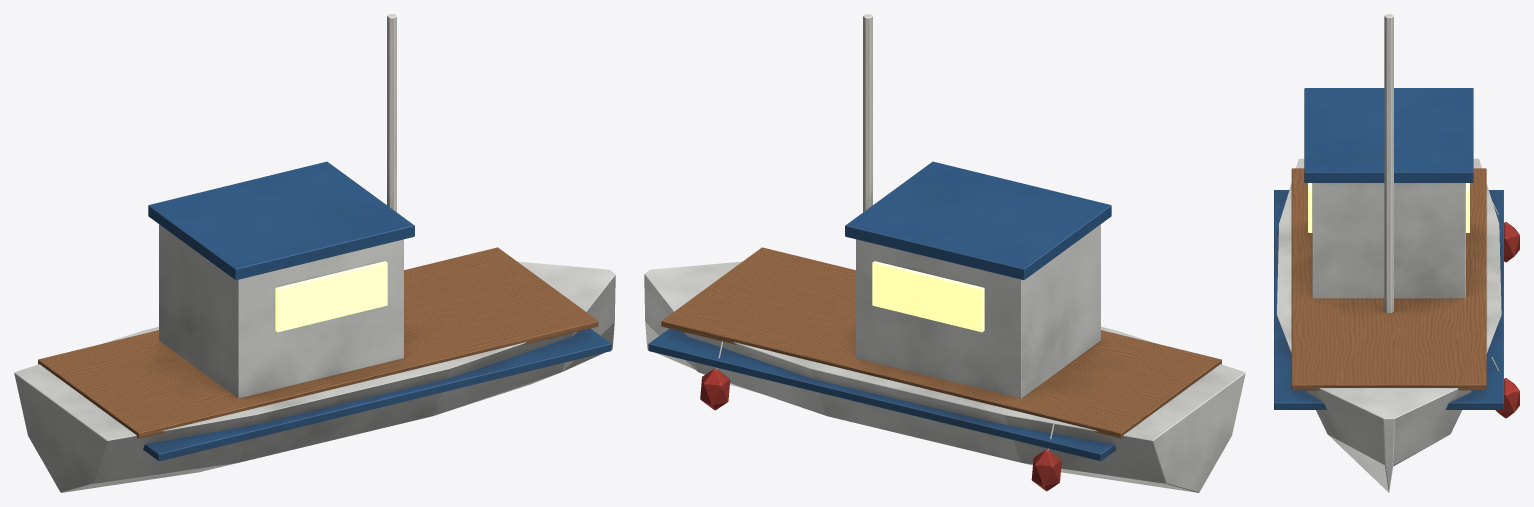
Rendered from fiskebat_tex.glb.
The picture shows the model from 3 angles, left to right: view 1: azimuth 30°, elevation 25°; view 2: azimuth 150°, elevation 25°; view 3: azimuth 270°, elevation 25°; orthographic projection. The views are drawn at different scales.
Visible parts, largest first — view 1: fiskebat; view 2: fiskebat; view 3: fiskebat.
Boxes of the visible parts, box(x1,y1,x2,y2) form: fiskebat: box(14, 14, 615, 492); fiskebat: box(644, 14, 1245, 492); fiskebat: box(1274, 14, 1519, 492).
Size of the model in its own units: 6 by 4.25 by 2.4.
Materials: 6 (5 with a texture image).
